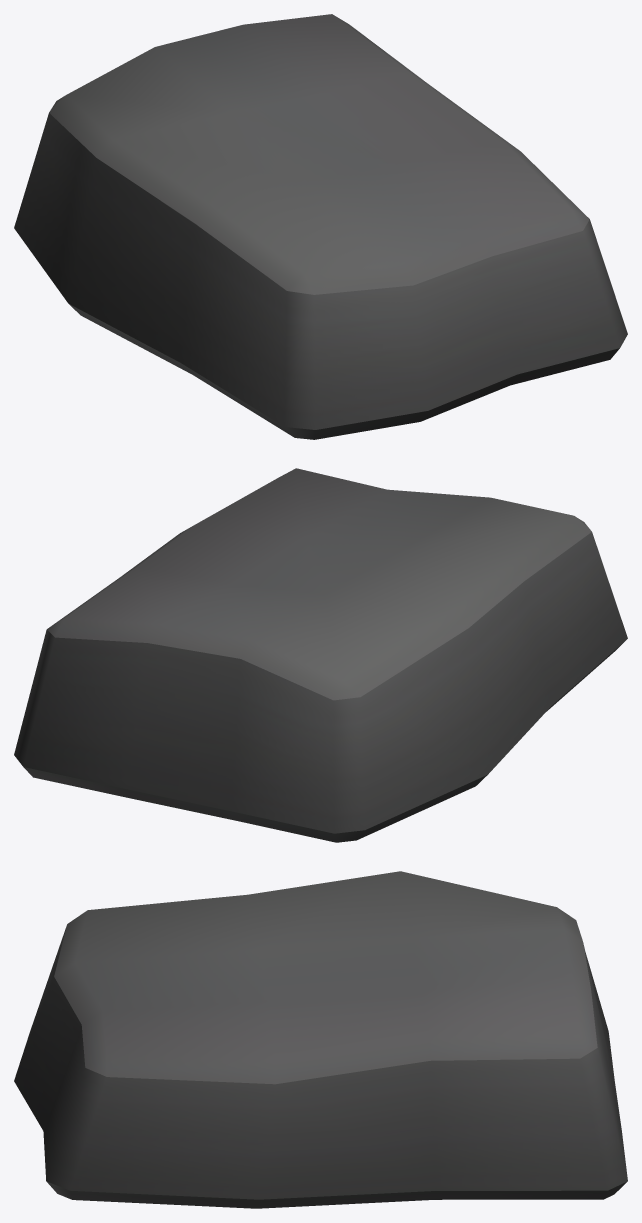
The model's file is StoneBlock_2_1.obj.
3 renders of one model, top to bottom at view 1: azimuth 30°, elevation 25°; view 2: azimuth 150°, elevation 25°; view 3: azimuth 270°, elevation 25°, orthographic. The views are drawn at different scales.
Parts seen in each view (by area): view 1: StoneBlock_2_1; view 2: StoneBlock_2_1; view 3: StoneBlock_2_1.
Boxes of the visible parts, bbox=[...] form: StoneBlock_2_1: bbox=[14, 14, 627, 439]; StoneBlock_2_1: bbox=[14, 468, 627, 842]; StoneBlock_2_1: bbox=[14, 871, 627, 1208].
Bounding box in the file's own units: 0.6038 × 0.2442 × 0.8012.
